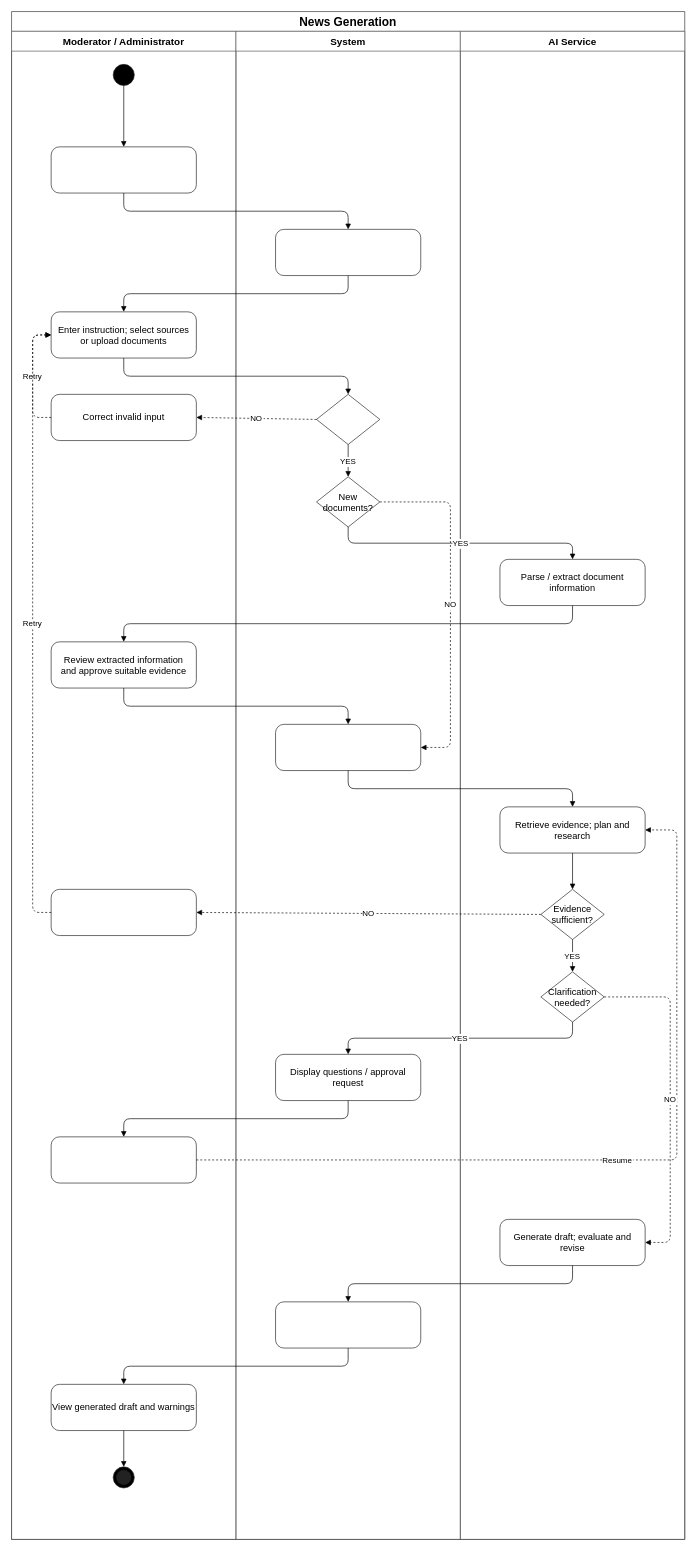
Some shapes in this 696 by 1551 pixel diagram are drawn without their labels. Each missing label, with the centre of its shape:
"Add evidence or revise request" belongs at [123,912].
"Check source ownership, approval and availability; record request" belongs at [348,747].
"Display conversation and source library" belongs at [348,252].
"Input valid?" belongs at [348,419].
"Open AI news assistant" belongs at [123,169].
"Save draft, sources, version and quality evaluation" belongs at [348,1324].
"Submit answers or source decisions" belongs at [123,1159].
